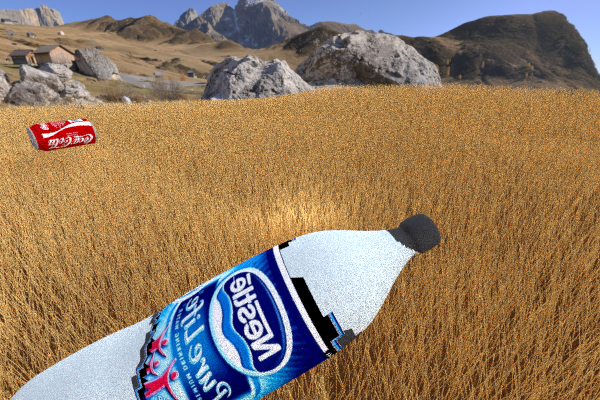bottle: (0, 213, 440, 400)
can: (562, 314, 600, 400), (26, 118, 97, 151)
